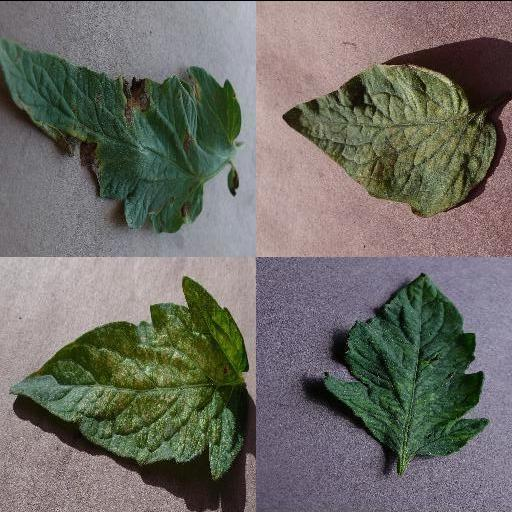Early Blight: (1, 37, 241, 230)
Mosaic Virus: (319, 269, 491, 459)
Spider Mites: (9, 274, 249, 480), (282, 62, 498, 216)
